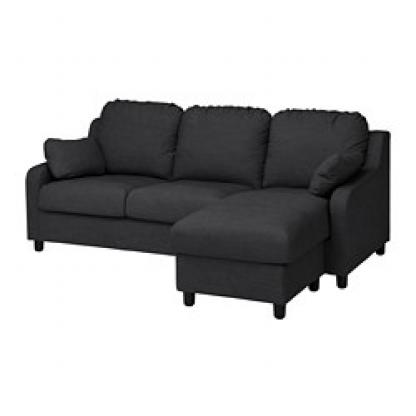Sofa: (18, 81, 396, 328)
